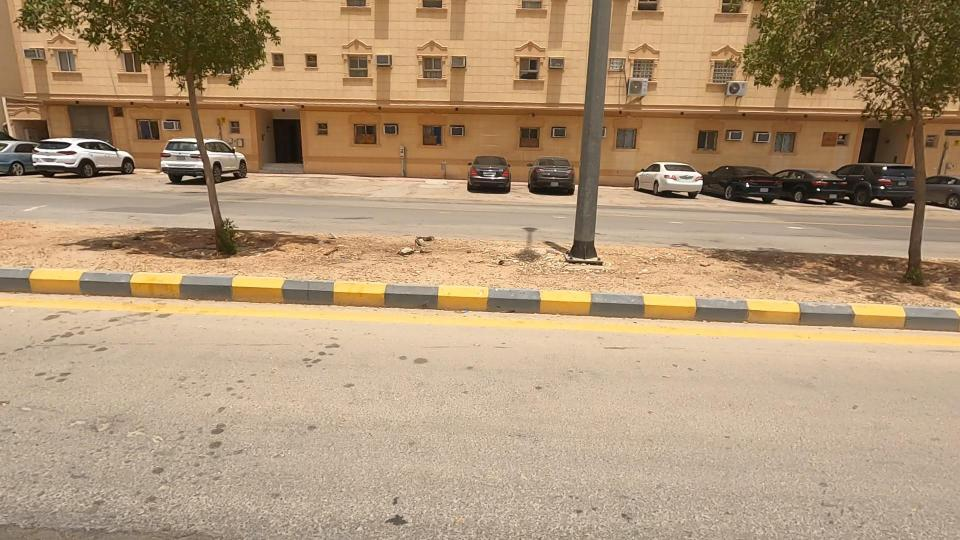GARBAGE: (342, 212, 484, 281), (281, 206, 367, 296)
